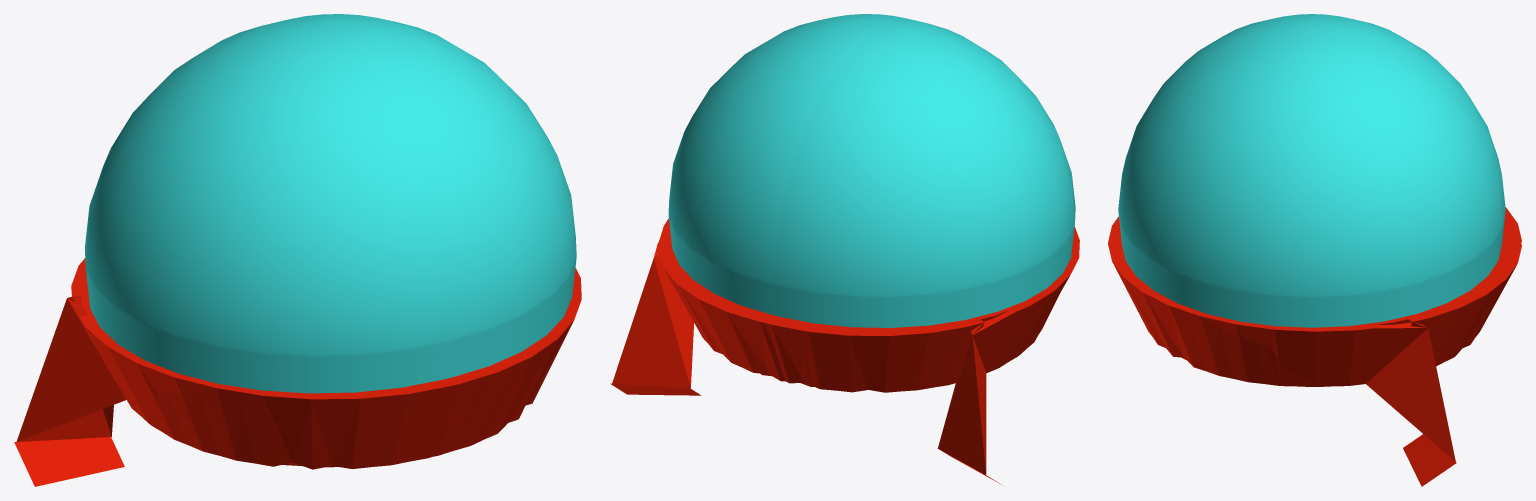
File: hello.glb
The picture shows the model from 3 angles, left to right: view 1: azimuth 30°, elevation 25°; view 2: azimuth 150°, elevation 25°; view 3: azimuth 270°, elevation 25°; orthographic projection. The views are drawn at different scales.
Visible parts, largest first — view 1: Wall; view 2: Wall; view 3: Wall.
Part boxes in pixels (x1,y1,x2,y2): Wall: (14,14,581,486); Wall: (610,14,1079,484); Wall: (1108,14,1521,486).
Size of the model in its own units: 28.33 by 26.26 by 27.24.
